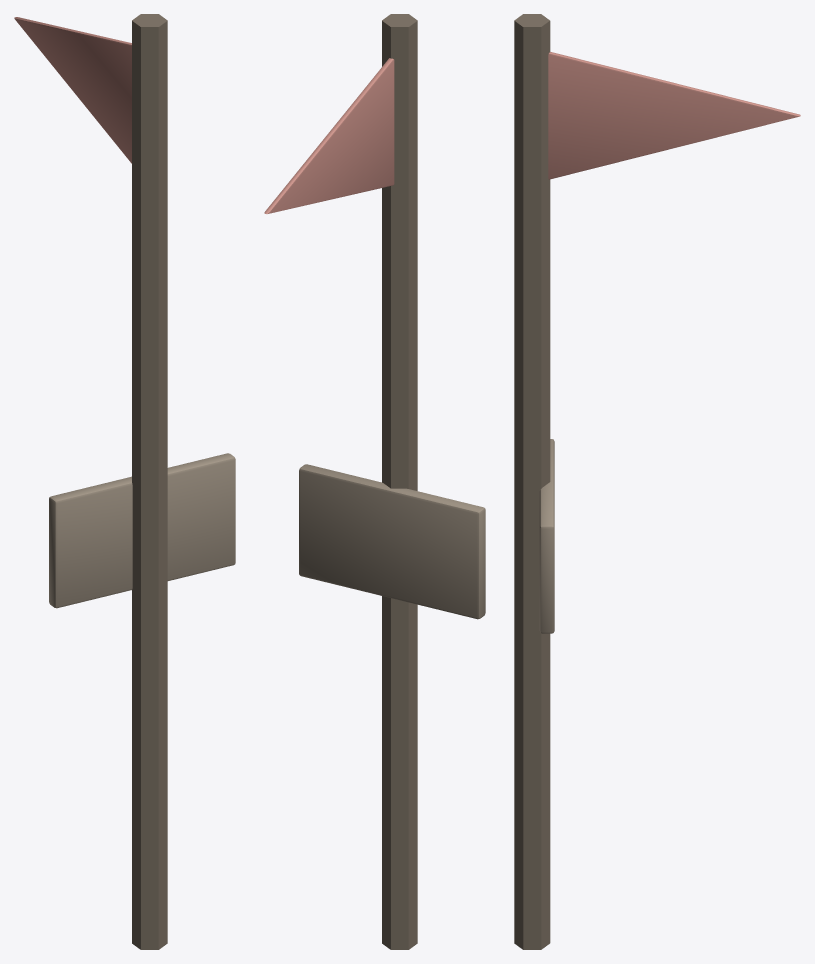
Rendered from course_flag.gltf.
3 views of the same model, side by side, from view 1: azimuth 30°, elevation 25°; view 2: azimuth 150°, elevation 25°; view 3: azimuth 270°, elevation 25° (orthographic).
Parts seen in each view (by area): view 1: Body; view 2: Body; view 3: Body.
Boxes of the visible parts, x1=… form: Body: x1=14, y1=14, x2=235, y2=949; Body: x1=264, y1=14, x2=485, y2=949; Body: x1=514, y1=14, x2=800, y2=949.
Size of the model in its own units: 0.7 by 3.4 by 0.9566.
